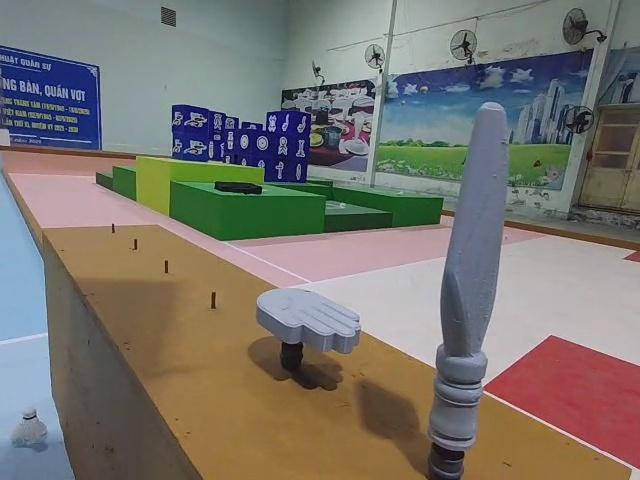Hand: (255, 286, 363, 373)
Sph: (427, 100, 505, 480)
